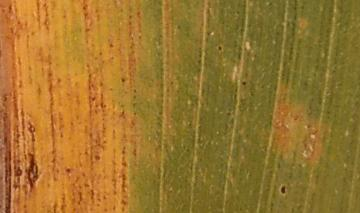tarspot: (25, 151, 39, 193), (26, 121, 37, 144), (15, 165, 22, 176), (92, 154, 101, 162), (82, 12, 89, 22), (81, 3, 88, 12), (280, 185, 286, 195), (119, 76, 126, 84), (108, 41, 115, 49), (58, 131, 65, 139), (98, 80, 105, 88), (7, 3, 12, 14), (56, 76, 62, 85), (15, 17, 21, 26), (64, 167, 71, 174), (83, 26, 90, 33), (90, 95, 96, 102), (127, 14, 133, 21), (97, 50, 104, 56), (132, 87, 138, 94), (175, 24, 181, 31), (241, 80, 246, 87), (108, 86, 113, 92), (217, 45, 221, 52), (137, 34, 141, 40)
